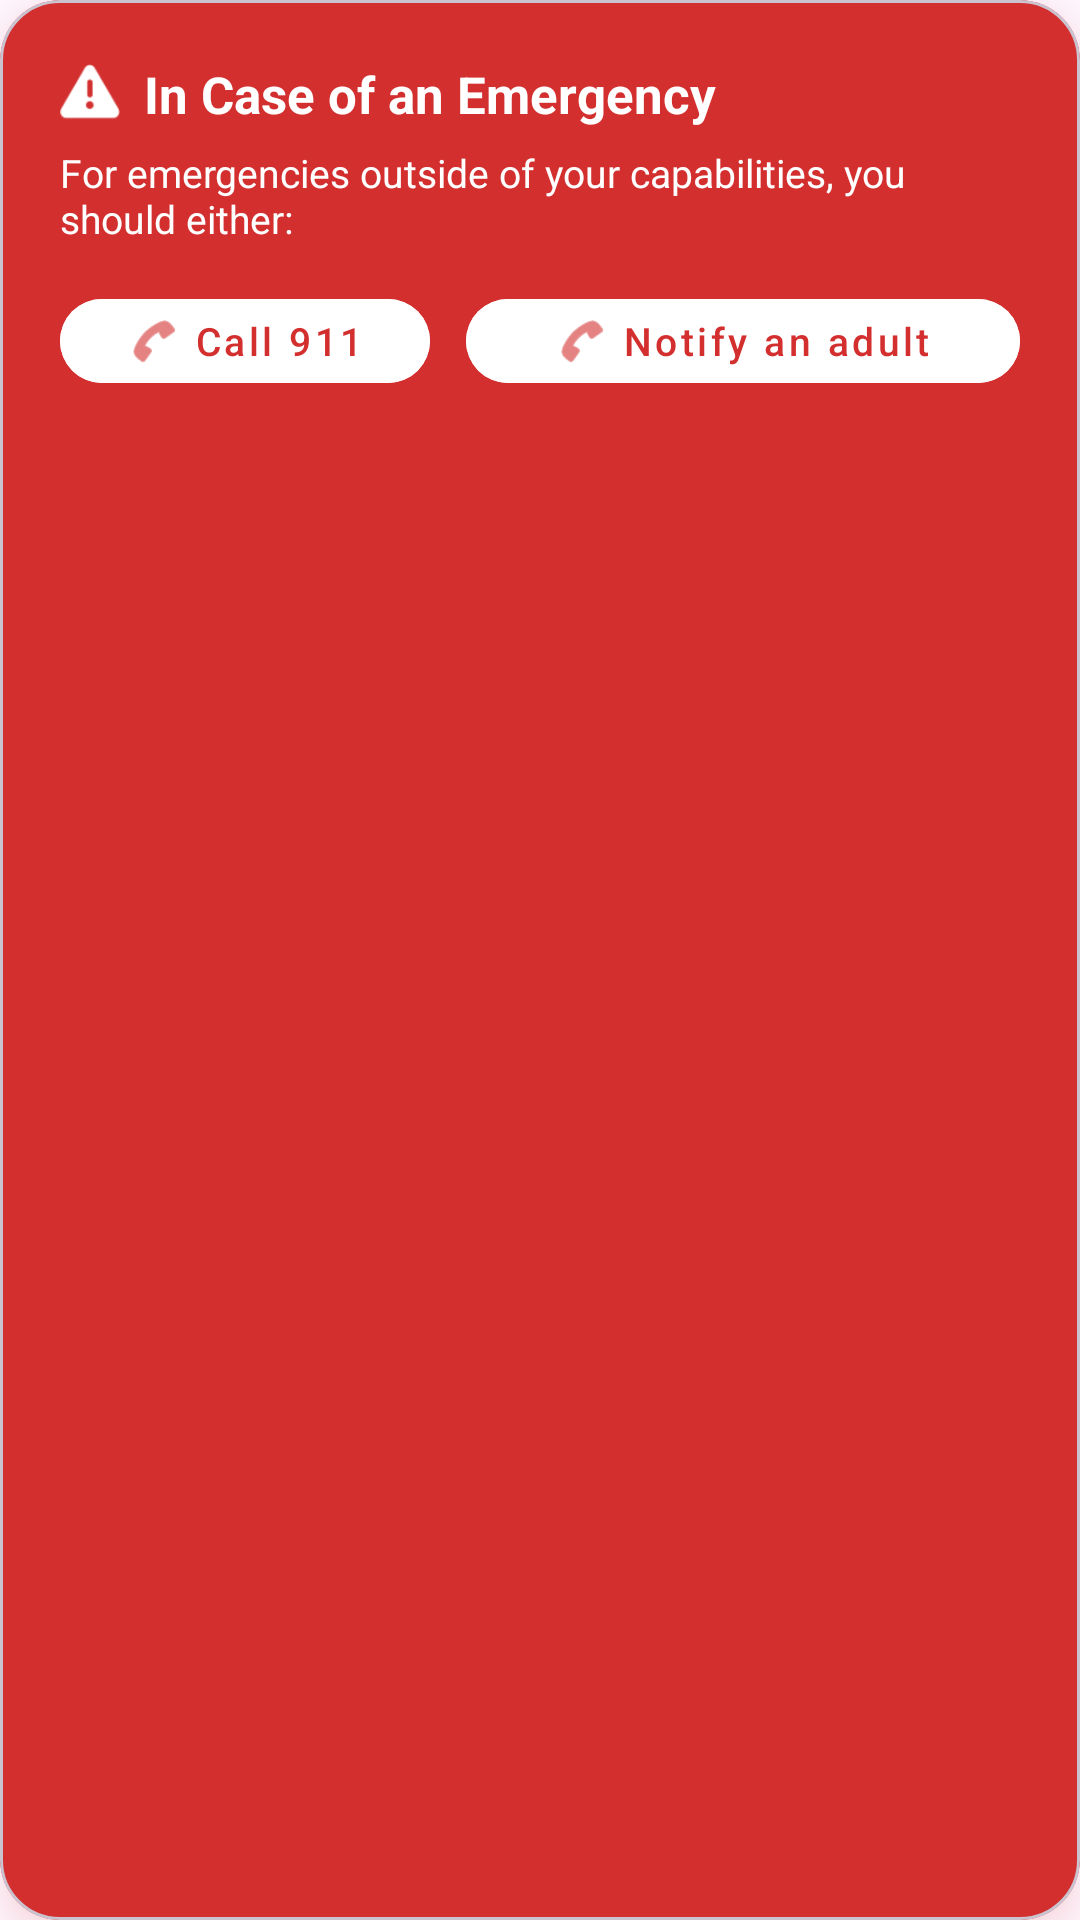

Where to tap for icons on this 1080x1920 app screen, as point (x, y):
alert: point (90, 91)
